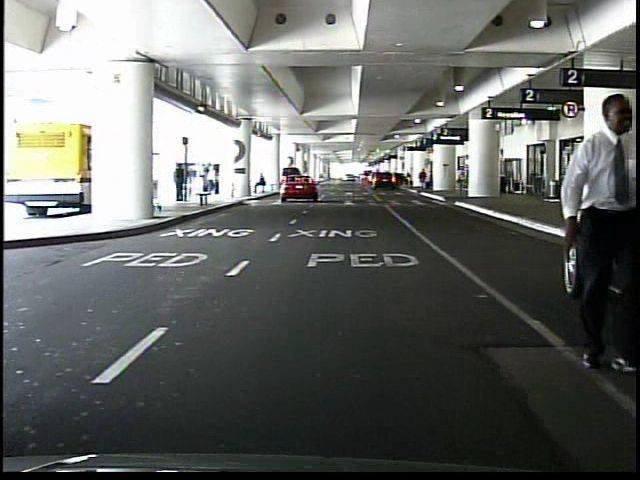person: (563, 93, 635, 371), (173, 161, 187, 204), (454, 166, 467, 195), (254, 172, 269, 195), (417, 167, 427, 191)
